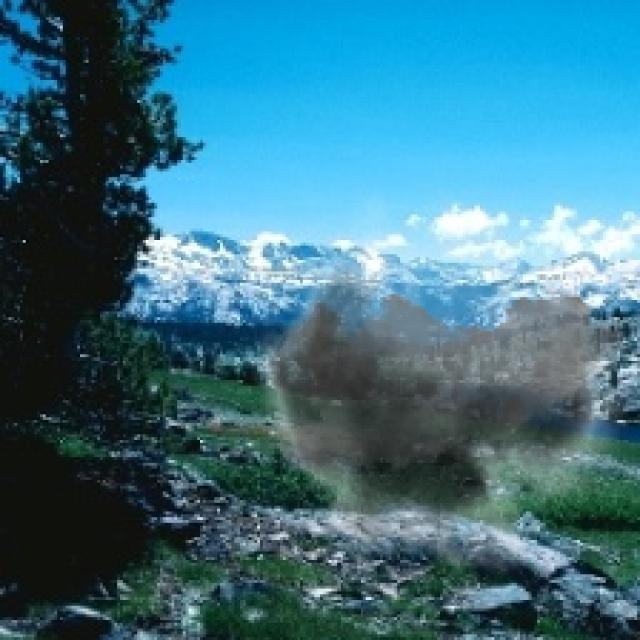smoke: (234, 186, 629, 591)
